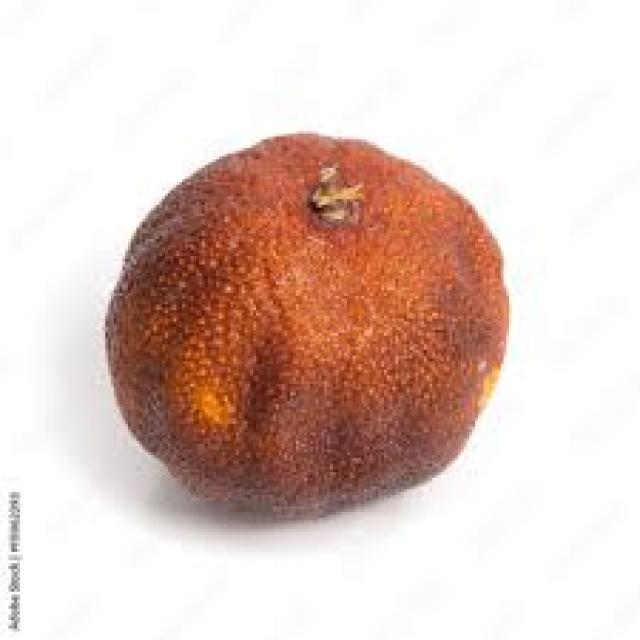Orange: (102, 125, 505, 518)
